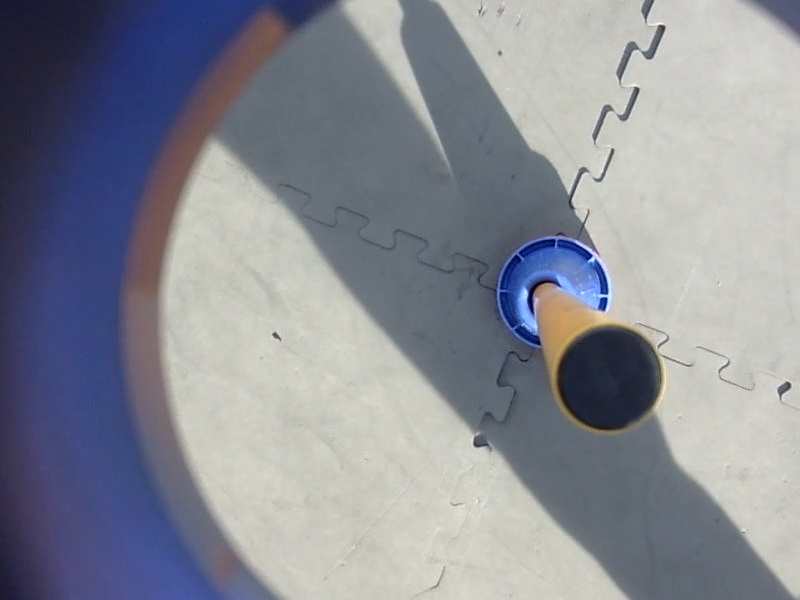tip: (545, 314, 673, 439)
